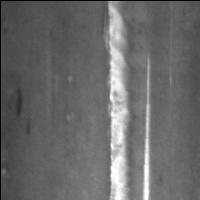inclusion: (12, 89, 25, 119)
scratches: (105, 1, 135, 200), (140, 50, 154, 200)
